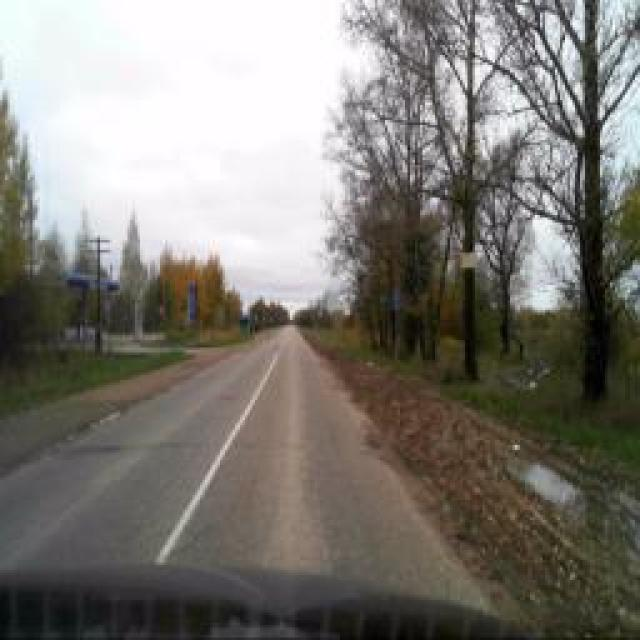sign: (391, 290, 401, 310)
